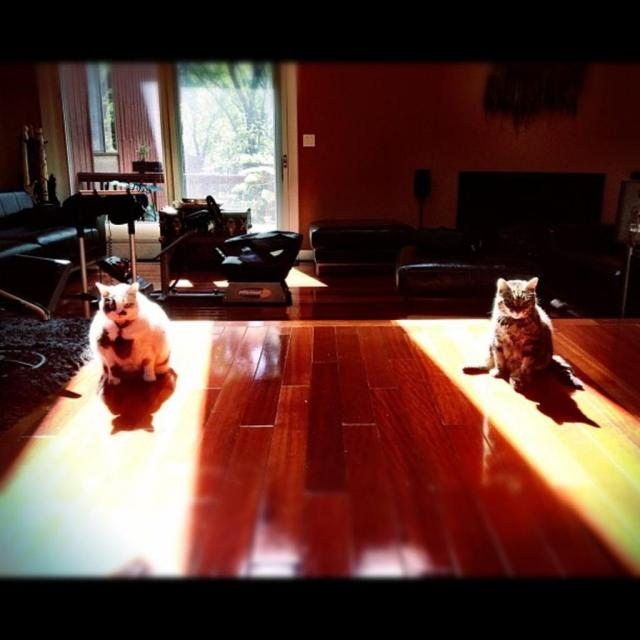Table: (0, 311, 639, 638)
